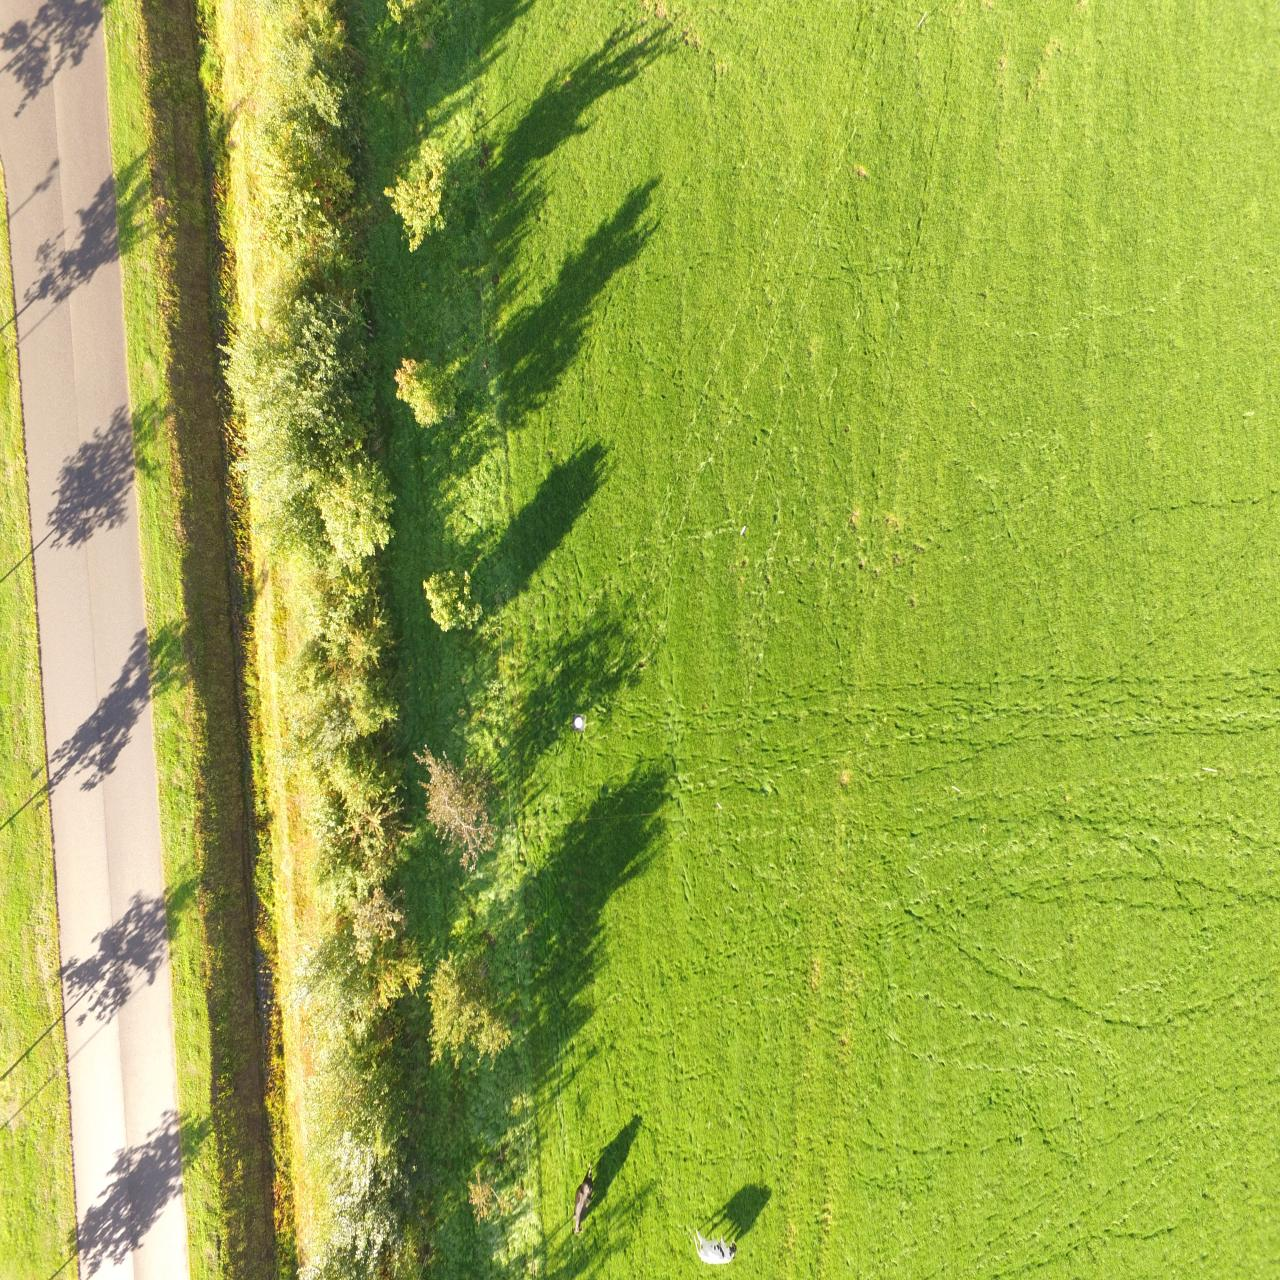cow: (572, 1162, 594, 1235), (694, 1231, 738, 1266)
